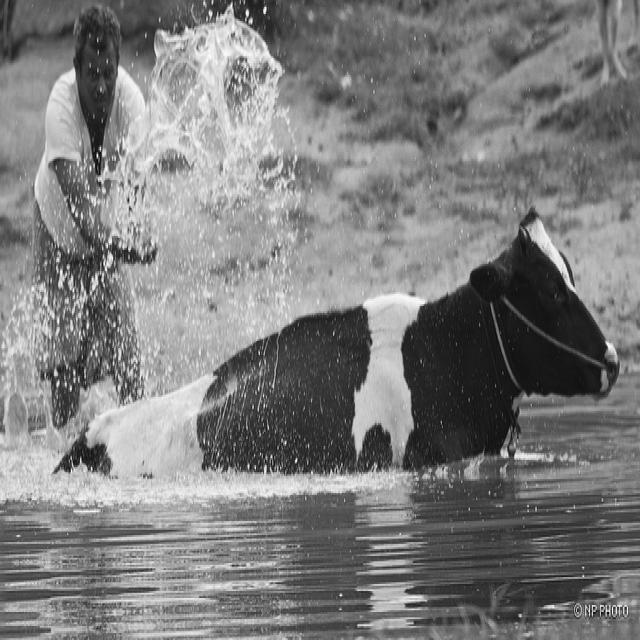cow: (50, 203, 619, 469)
